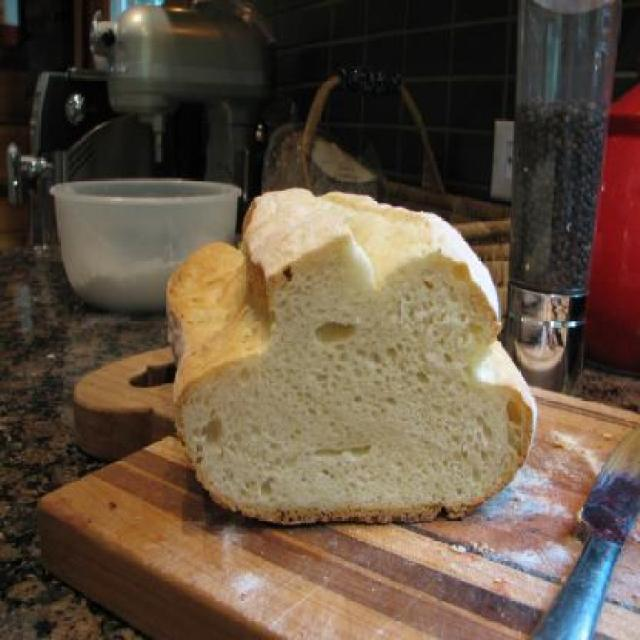Bread: (165, 186, 533, 523)
